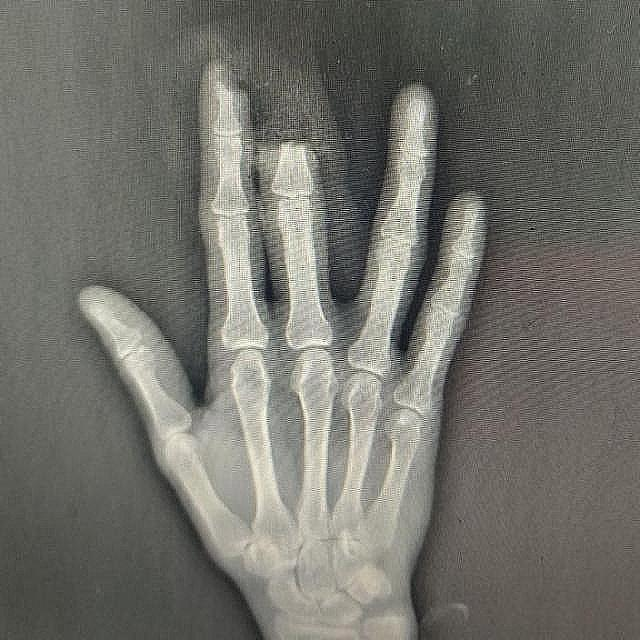bone: (192, 55, 251, 118), (265, 116, 319, 174)
